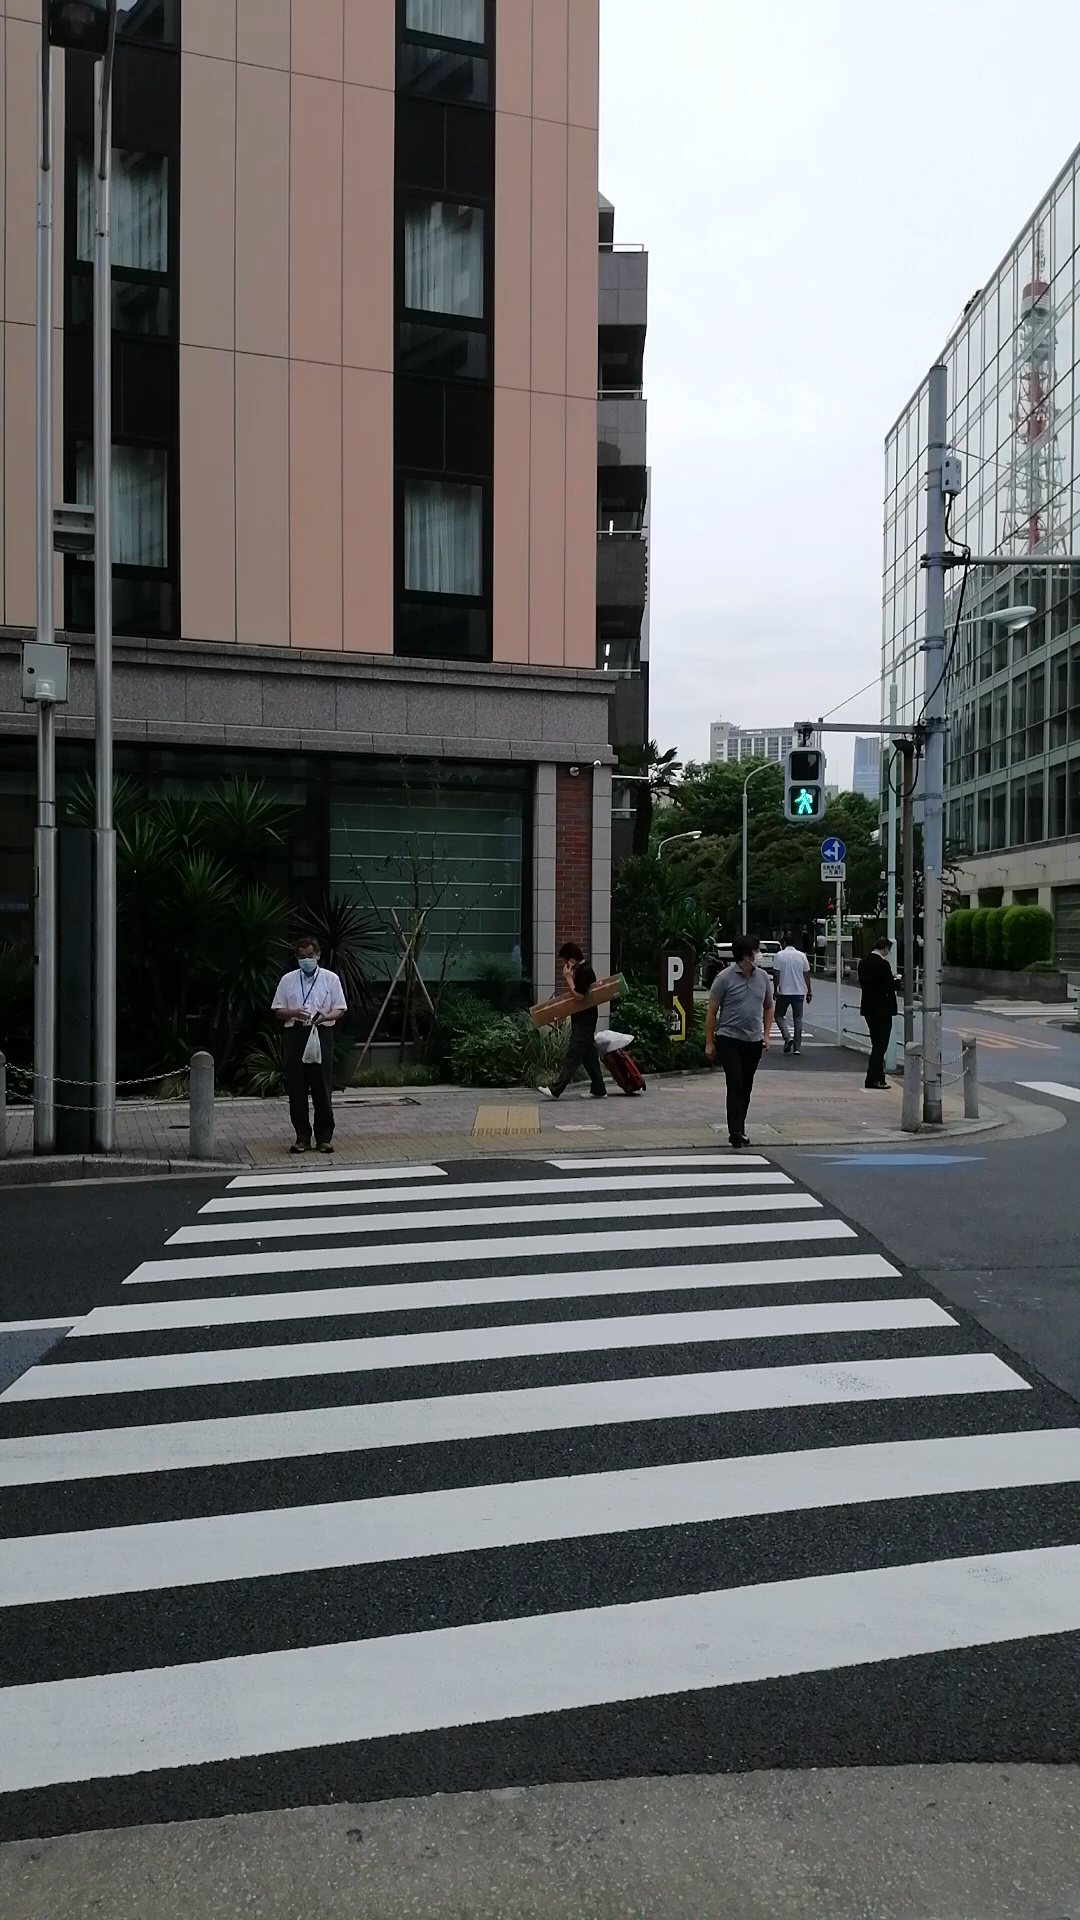green: (782, 745, 824, 822)
